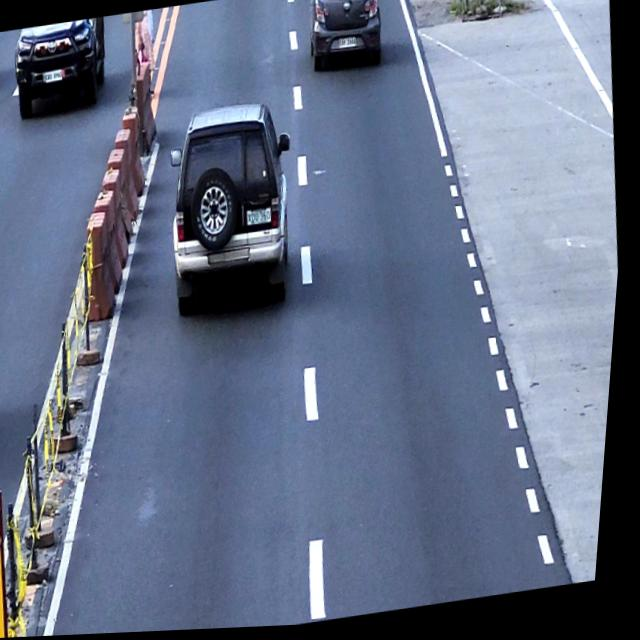Car: (158, 97, 311, 318), (9, 17, 114, 119), (295, 0, 391, 78)
License-Plate: (248, 208, 276, 228), (338, 37, 358, 53), (45, 69, 65, 84)
